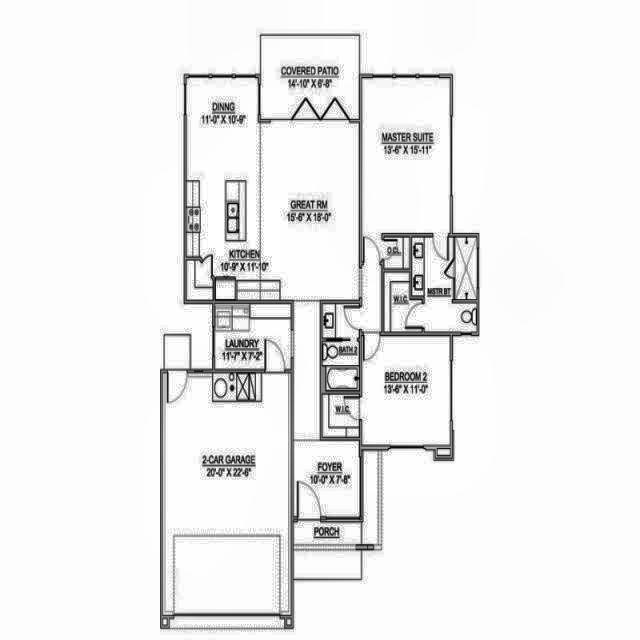room: (186, 78, 358, 301), (164, 374, 290, 615), (362, 78, 449, 261), (362, 336, 450, 444), (261, 36, 359, 119), (294, 442, 359, 516), (216, 305, 290, 368), (294, 302, 318, 438), (390, 237, 423, 333), (323, 305, 359, 390), (425, 238, 452, 300), (425, 303, 477, 331), (323, 396, 358, 437), (362, 266, 382, 331), (455, 238, 476, 299), (385, 239, 409, 269)
